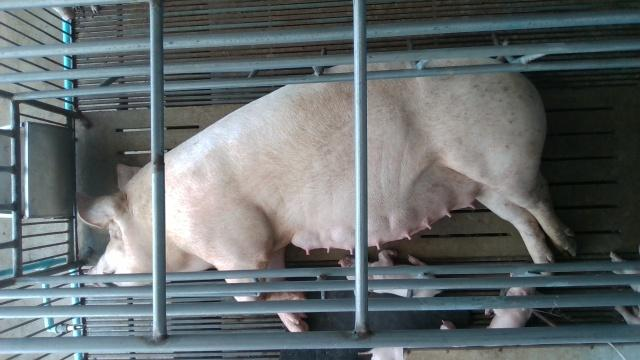piglet: (337, 250, 443, 298), (483, 286, 537, 327)
sow-sleep-lactate: (75, 55, 580, 332)
